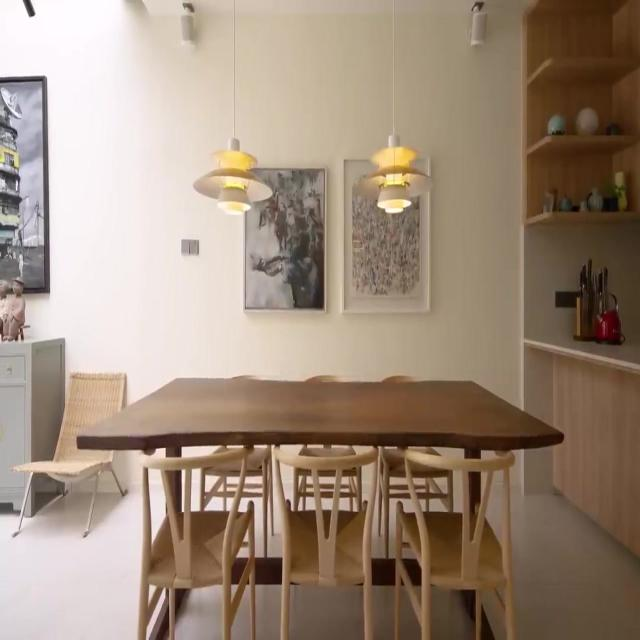obstacle: (76, 374, 564, 638), (394, 447, 516, 639), (137, 447, 256, 639), (272, 445, 379, 639), (9, 370, 128, 538), (0, 336, 66, 516), (293, 373, 359, 513)
